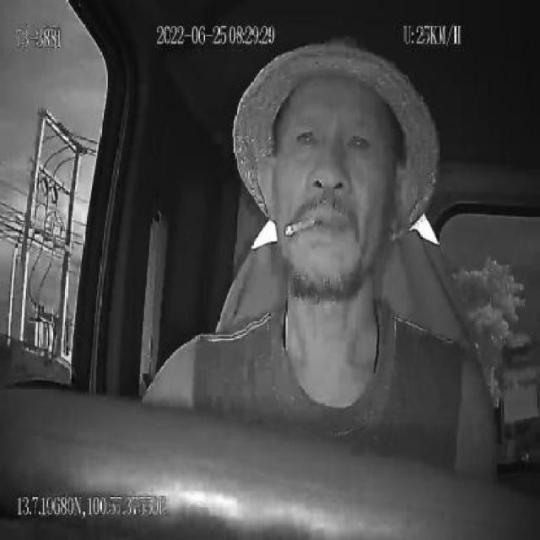smoking: (284, 212, 316, 238)
